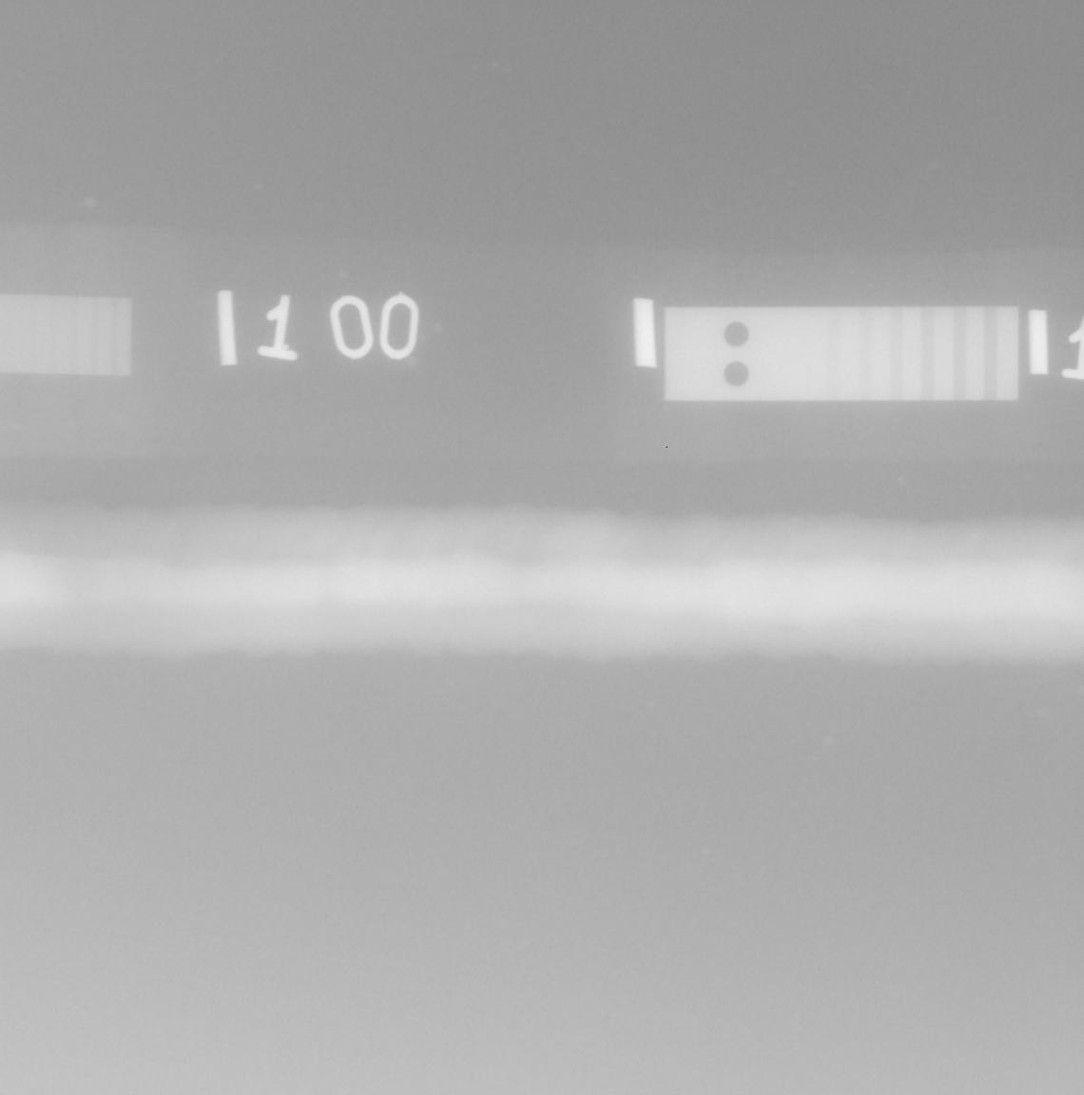Inclusion: (776, 626, 795, 632)
Pore/Porosity: (1004, 631, 1009, 641)
Reference Standard 2: (664, 306, 1019, 402)
